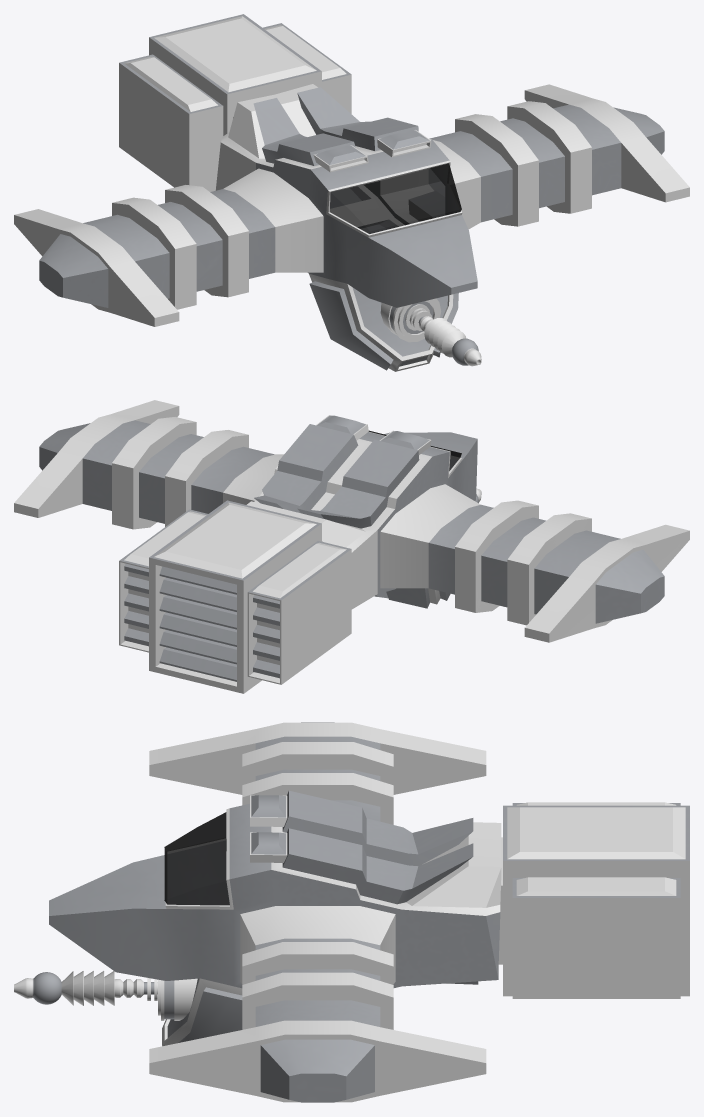
Rendered from CEE.fbx.
The picture shows the model from 3 angles, top to bottom: view 1: azimuth 30°, elevation 25°; view 2: azimuth 150°, elevation 25°; view 3: azimuth 270°, elevation 25°; orthographic projection. The views are drawn at different scales.
Parts seen in each view (by area): view 1: CEE; view 2: CEE; view 3: CEE.
Boxes of the visible parts, x1,y1,x2,y2 form: CEE: (14, 14, 689, 371); CEE: (14, 400, 689, 693); CEE: (14, 722, 689, 1102).
Size of the model in its own units: 8.9 by 2.8 by 7.24.
